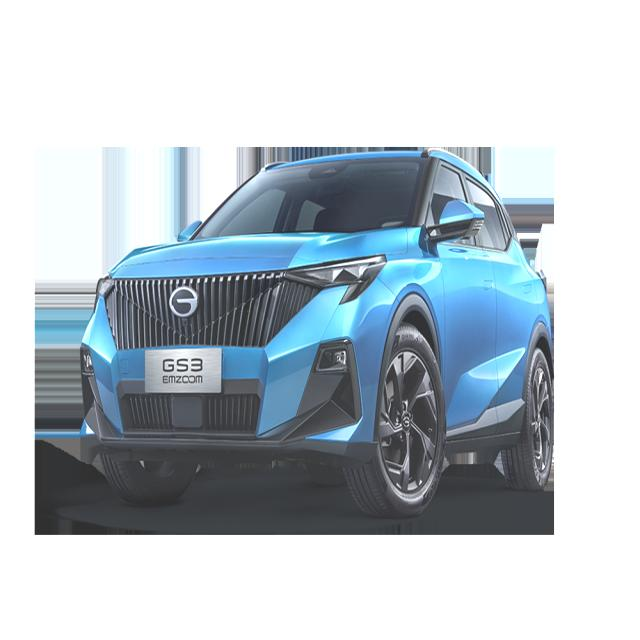SUV: (76, 142, 554, 513)
